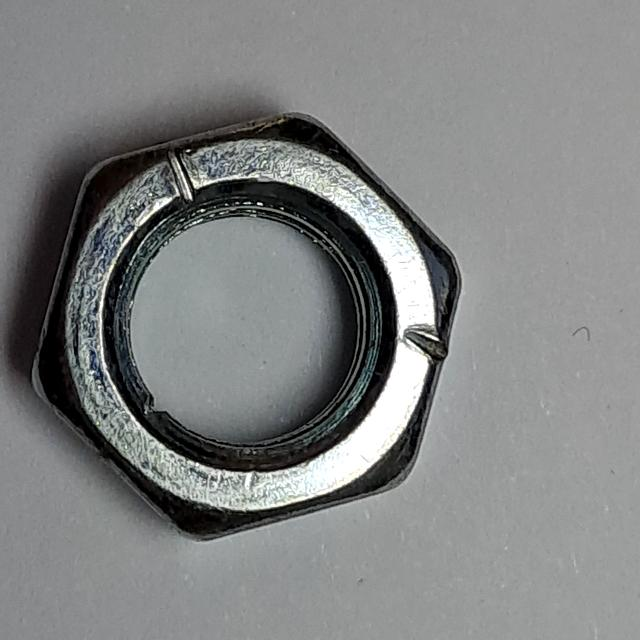Scratches: (23, 102, 482, 553)
